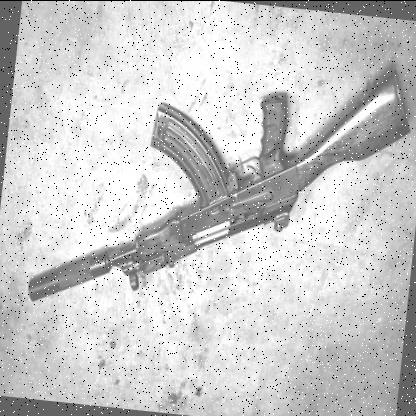rifle: (24, 31, 416, 371)
